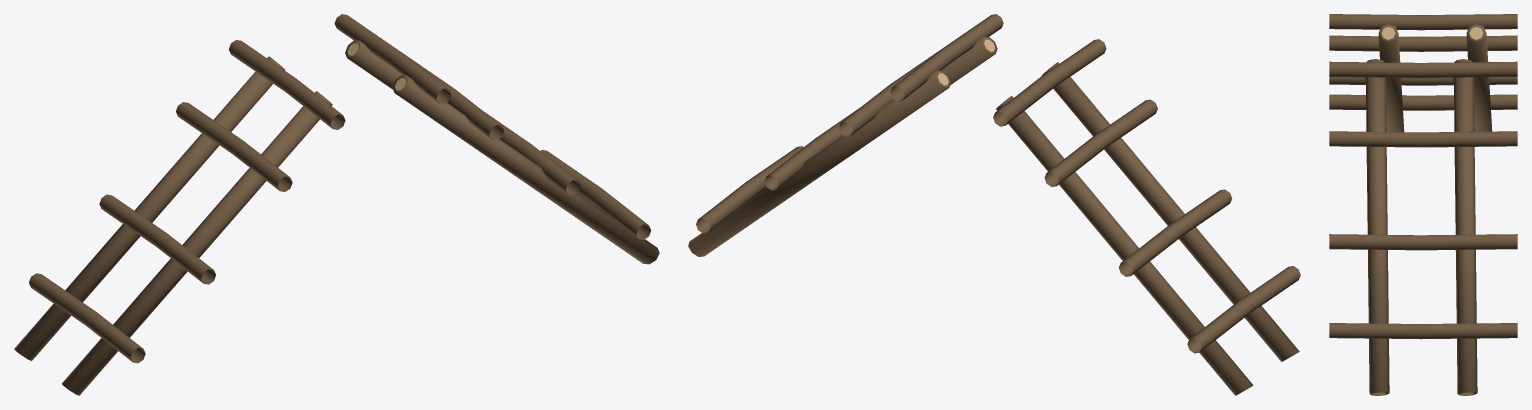
The model's file is rpgpp_ag_roof_support_01_9x4x3_chimney_01.fbx.
3 renders of one model, left to right at view 1: azimuth 30°, elevation 25°; view 2: azimuth 150°, elevation 25°; view 3: azimuth 270°, elevation 25°, orthographic. The views are drawn at different scales.
Visible parts, largest first — view 1: rpgpp_ag_roof_support_01_9x4x3_chimney_01; view 2: rpgpp_ag_roof_support_01_9x4x3_chimney_01; view 3: rpgpp_ag_roof_support_01_9x4x3_chimney_01.
Boxes of the visible parts, x1,y1,x2,y2 form: rpgpp_ag_roof_support_01_9x4x3_chimney_01: [14, 14, 659, 395]; rpgpp_ag_roof_support_01_9x4x3_chimney_01: [688, 14, 1300, 395]; rpgpp_ag_roof_support_01_9x4x3_chimney_01: [1329, 14, 1517, 395].
Size of the model in its own units: 9.98 by 4.07 by 3.
